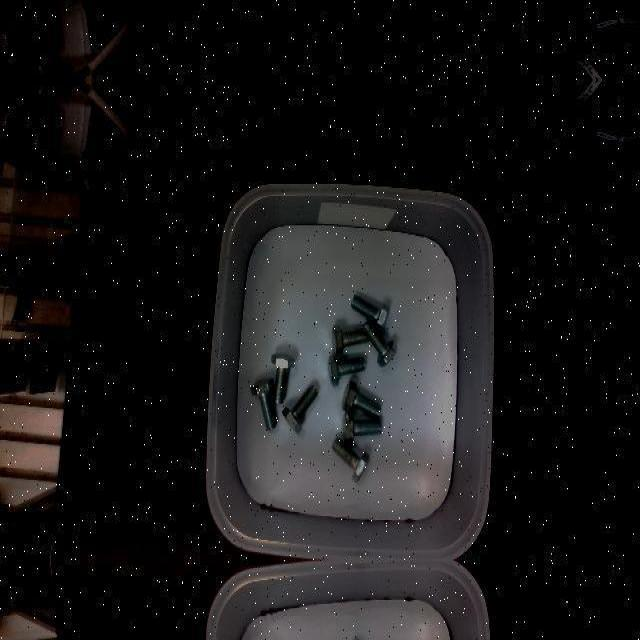screw: (282, 386, 319, 434), (331, 437, 369, 483), (362, 319, 396, 367), (342, 379, 381, 419), (250, 377, 278, 429), (343, 410, 382, 444), (327, 354, 365, 386), (270, 352, 294, 402)
